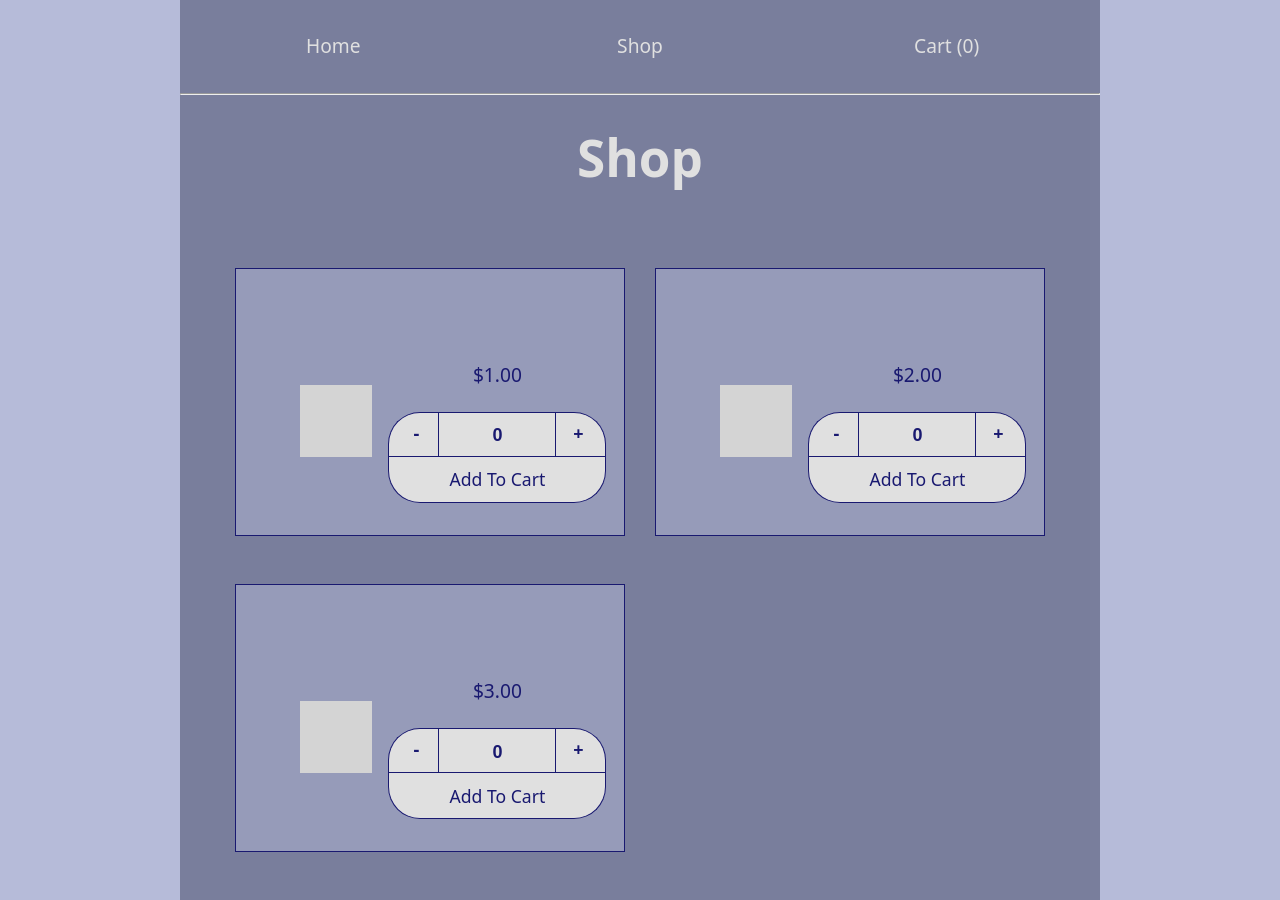
Test: App component › renders correct number of cart items after adding to cart
Click the button "+" below "$1.00".
click(581, 434)  # box [556,412,606,457]
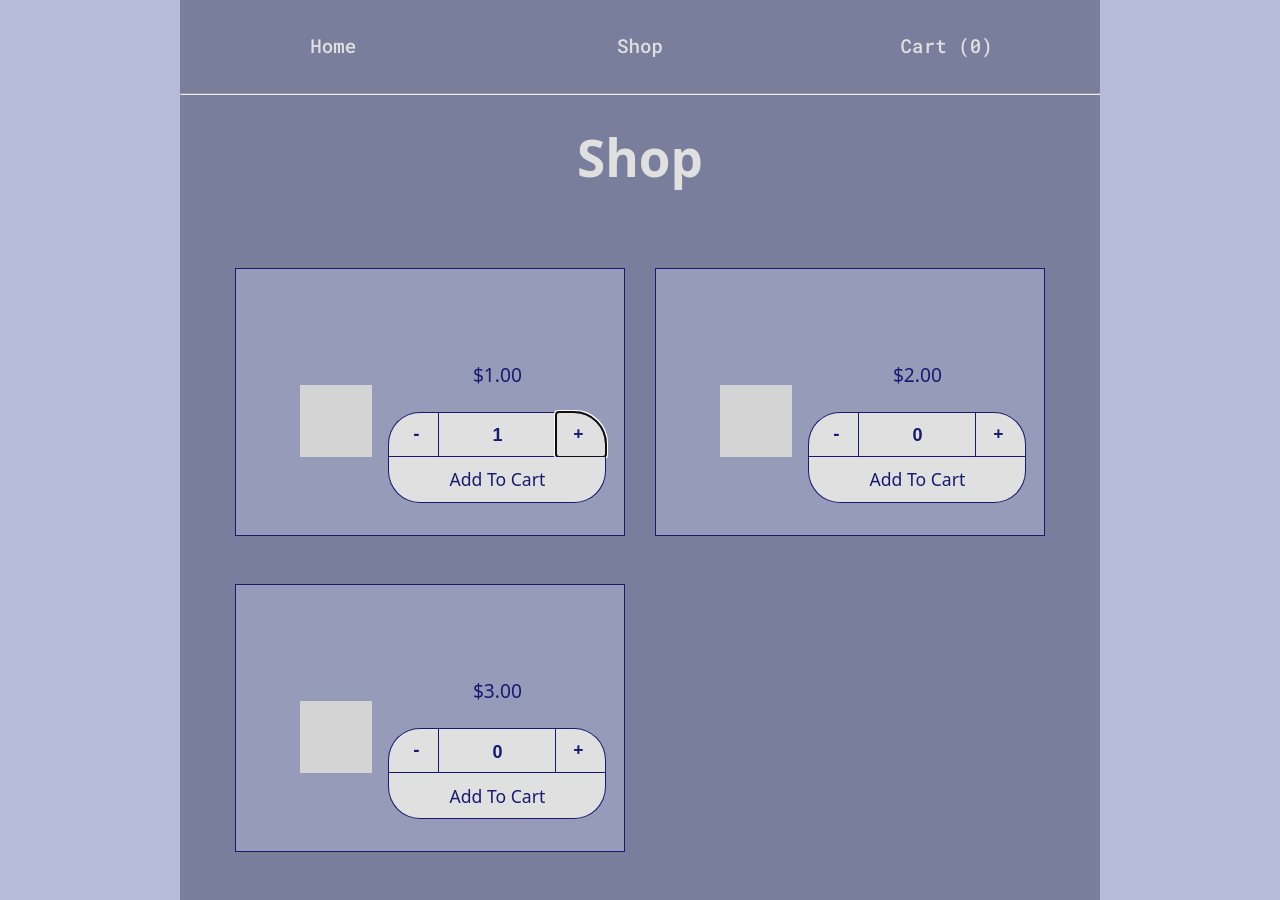
Click the button "Add To Cart" below "$1.00".
click(497, 480)  # box [388,457,606,503]
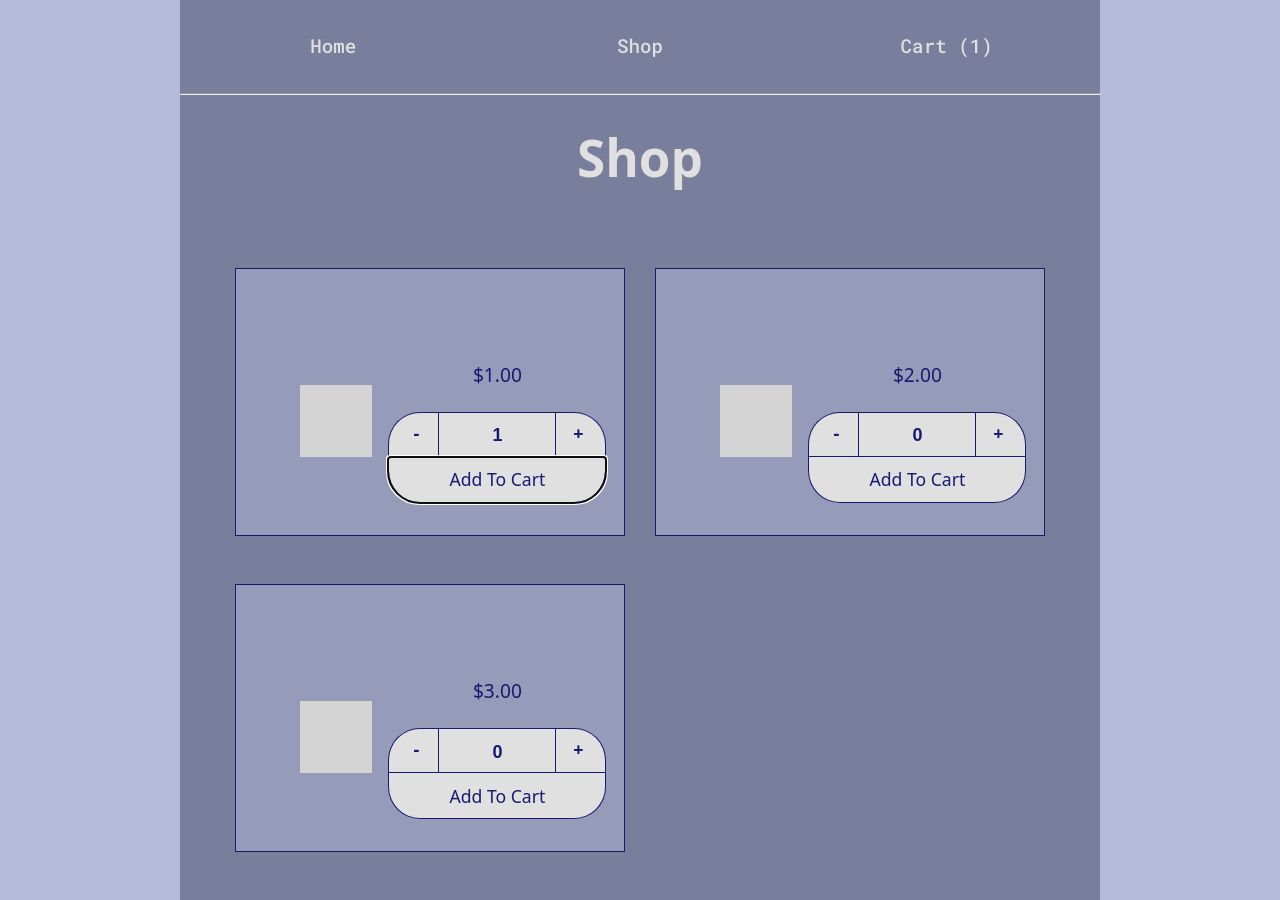
Result: the list item "Cart (1)" is shown at [901,33,993,58]
